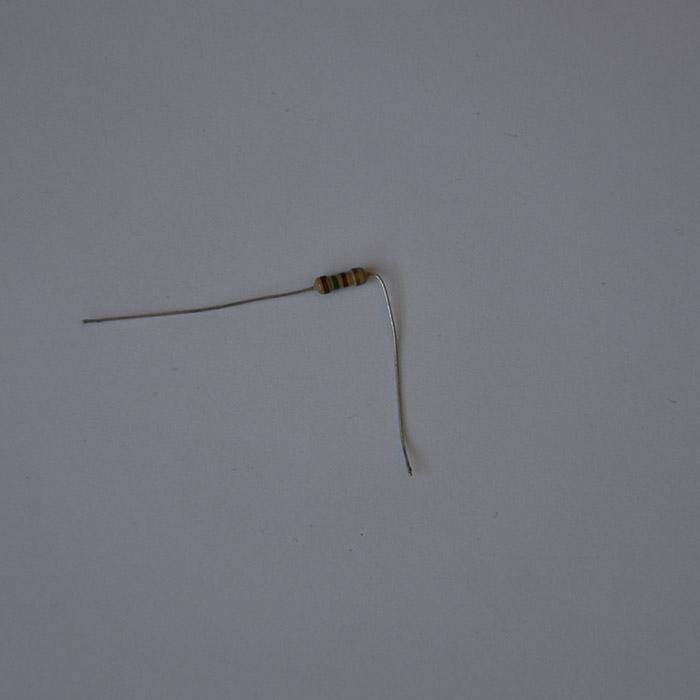resistor: (315, 267, 366, 294)
